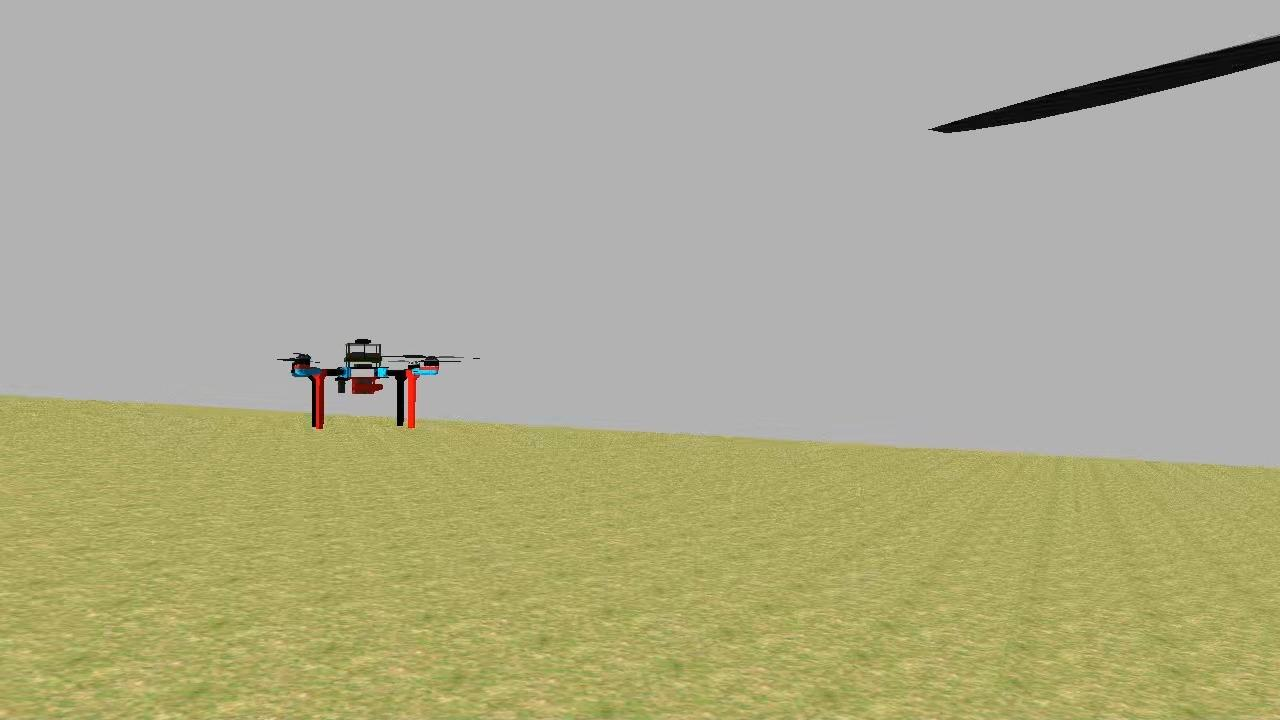UAV: (284, 334, 448, 432)
